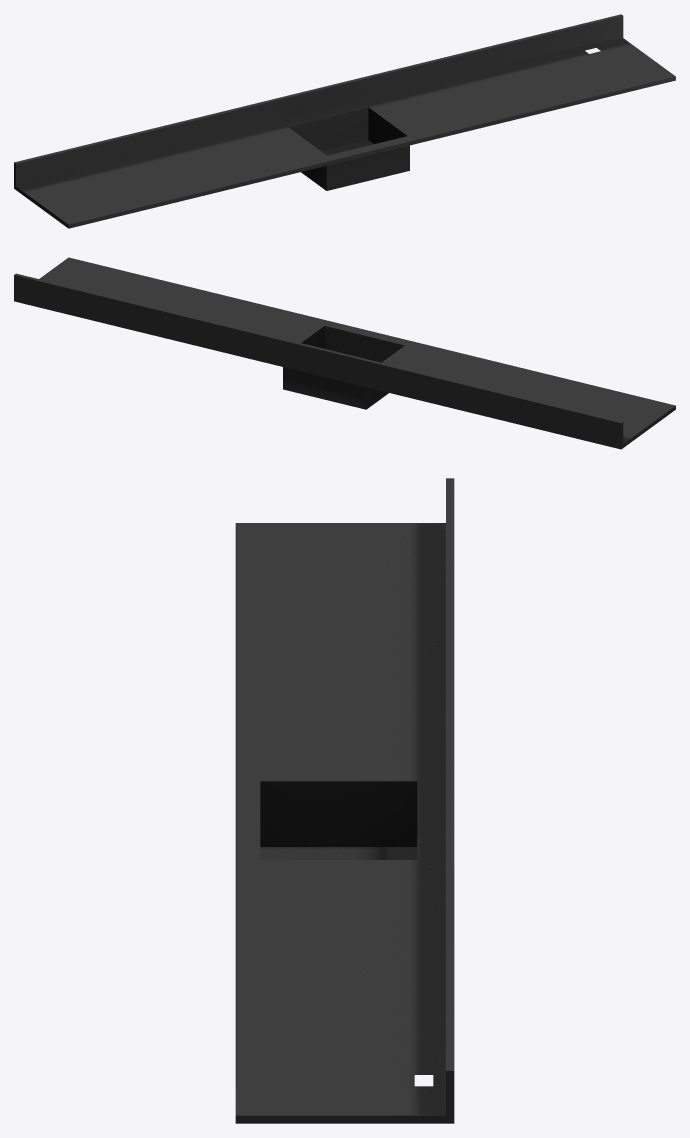
File: countertop.gltf
3 views of the same model, one above another, from view 1: azimuth 30°, elevation 25°; view 2: azimuth 150°, elevation 25°; view 3: azimuth 270°, elevation 25° (orthographic). The views are drawn at different scales.
Parts seen in each view (by area): view 1: countertop; view 2: countertop; view 3: countertop.
Part boxes in pixels (left/top/right/bottom): countertop: left=14, top=14, right=675, bottom=228; countertop: left=14, top=257, right=675, bottom=449; countertop: left=235, top=478, right=454, bottom=1123.
Size of the model in its own units: 15.67 by 1.4 by 2.44.
1 material, 1 textured.
